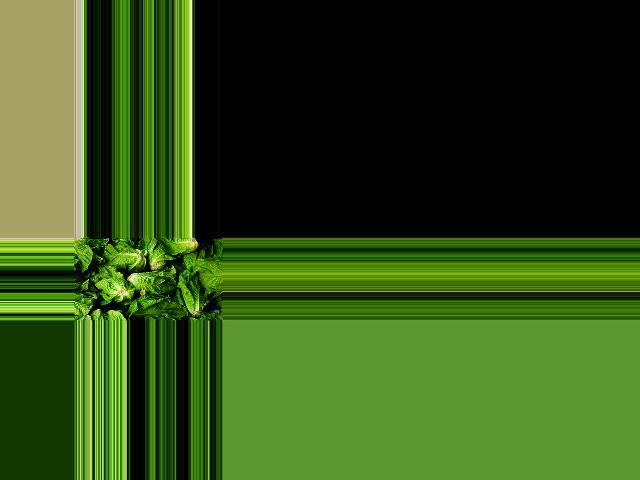lettuce: (155, 238, 205, 256)
